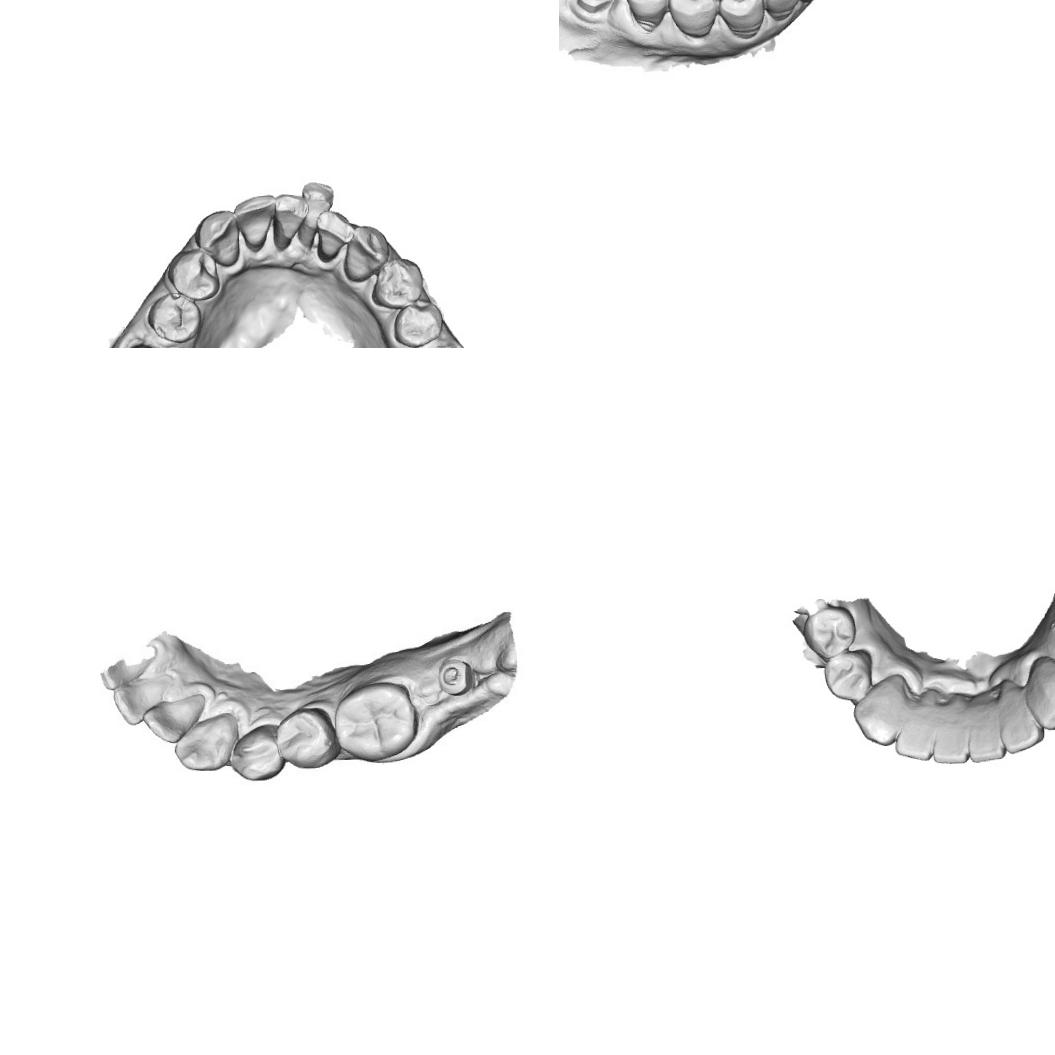canine: (850, 678, 905, 752), (172, 714, 235, 773), (192, 208, 242, 270), (341, 223, 391, 284), (1023, 654, 1055, 733), (718, 0, 767, 42)
implant: (432, 653, 480, 696), (575, 0, 615, 14)
incisor: (140, 692, 207, 744), (999, 684, 1045, 754), (110, 678, 168, 726), (235, 193, 277, 252), (966, 708, 1006, 766), (928, 714, 972, 766), (892, 710, 935, 763), (300, 179, 336, 232), (272, 192, 309, 243), (316, 208, 355, 256), (764, 0, 803, 19)
molar: (331, 679, 420, 762)
premolar: (275, 704, 335, 768), (224, 722, 284, 782), (166, 247, 222, 304), (802, 604, 859, 660), (369, 257, 427, 311), (147, 293, 206, 346), (390, 296, 445, 348), (820, 650, 875, 702), (669, 0, 720, 42), (622, 0, 674, 32)
